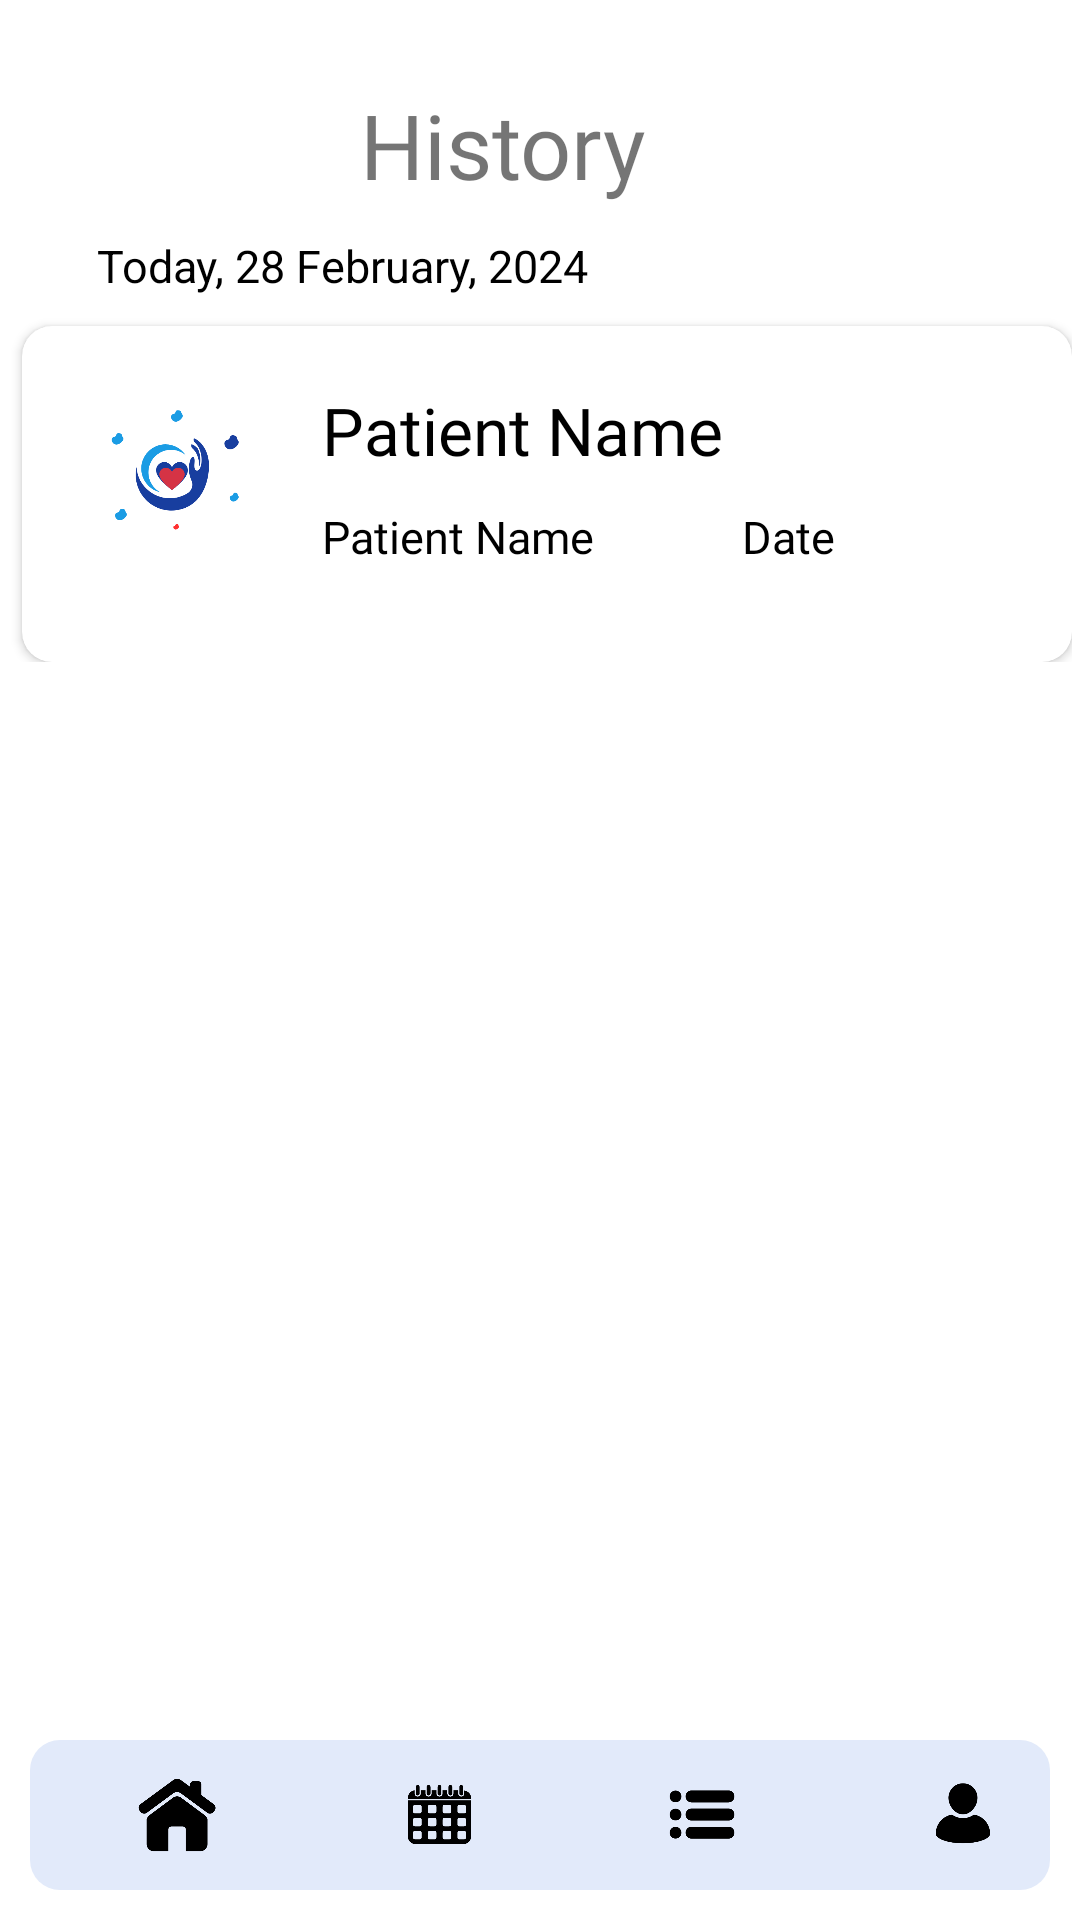

Point at icon controls on the screen. Image size 1080×1920, points as (x,y).
appointment: (439,1814)
home: (177,1815)
option: (702,1814)
profile: (963,1813)
